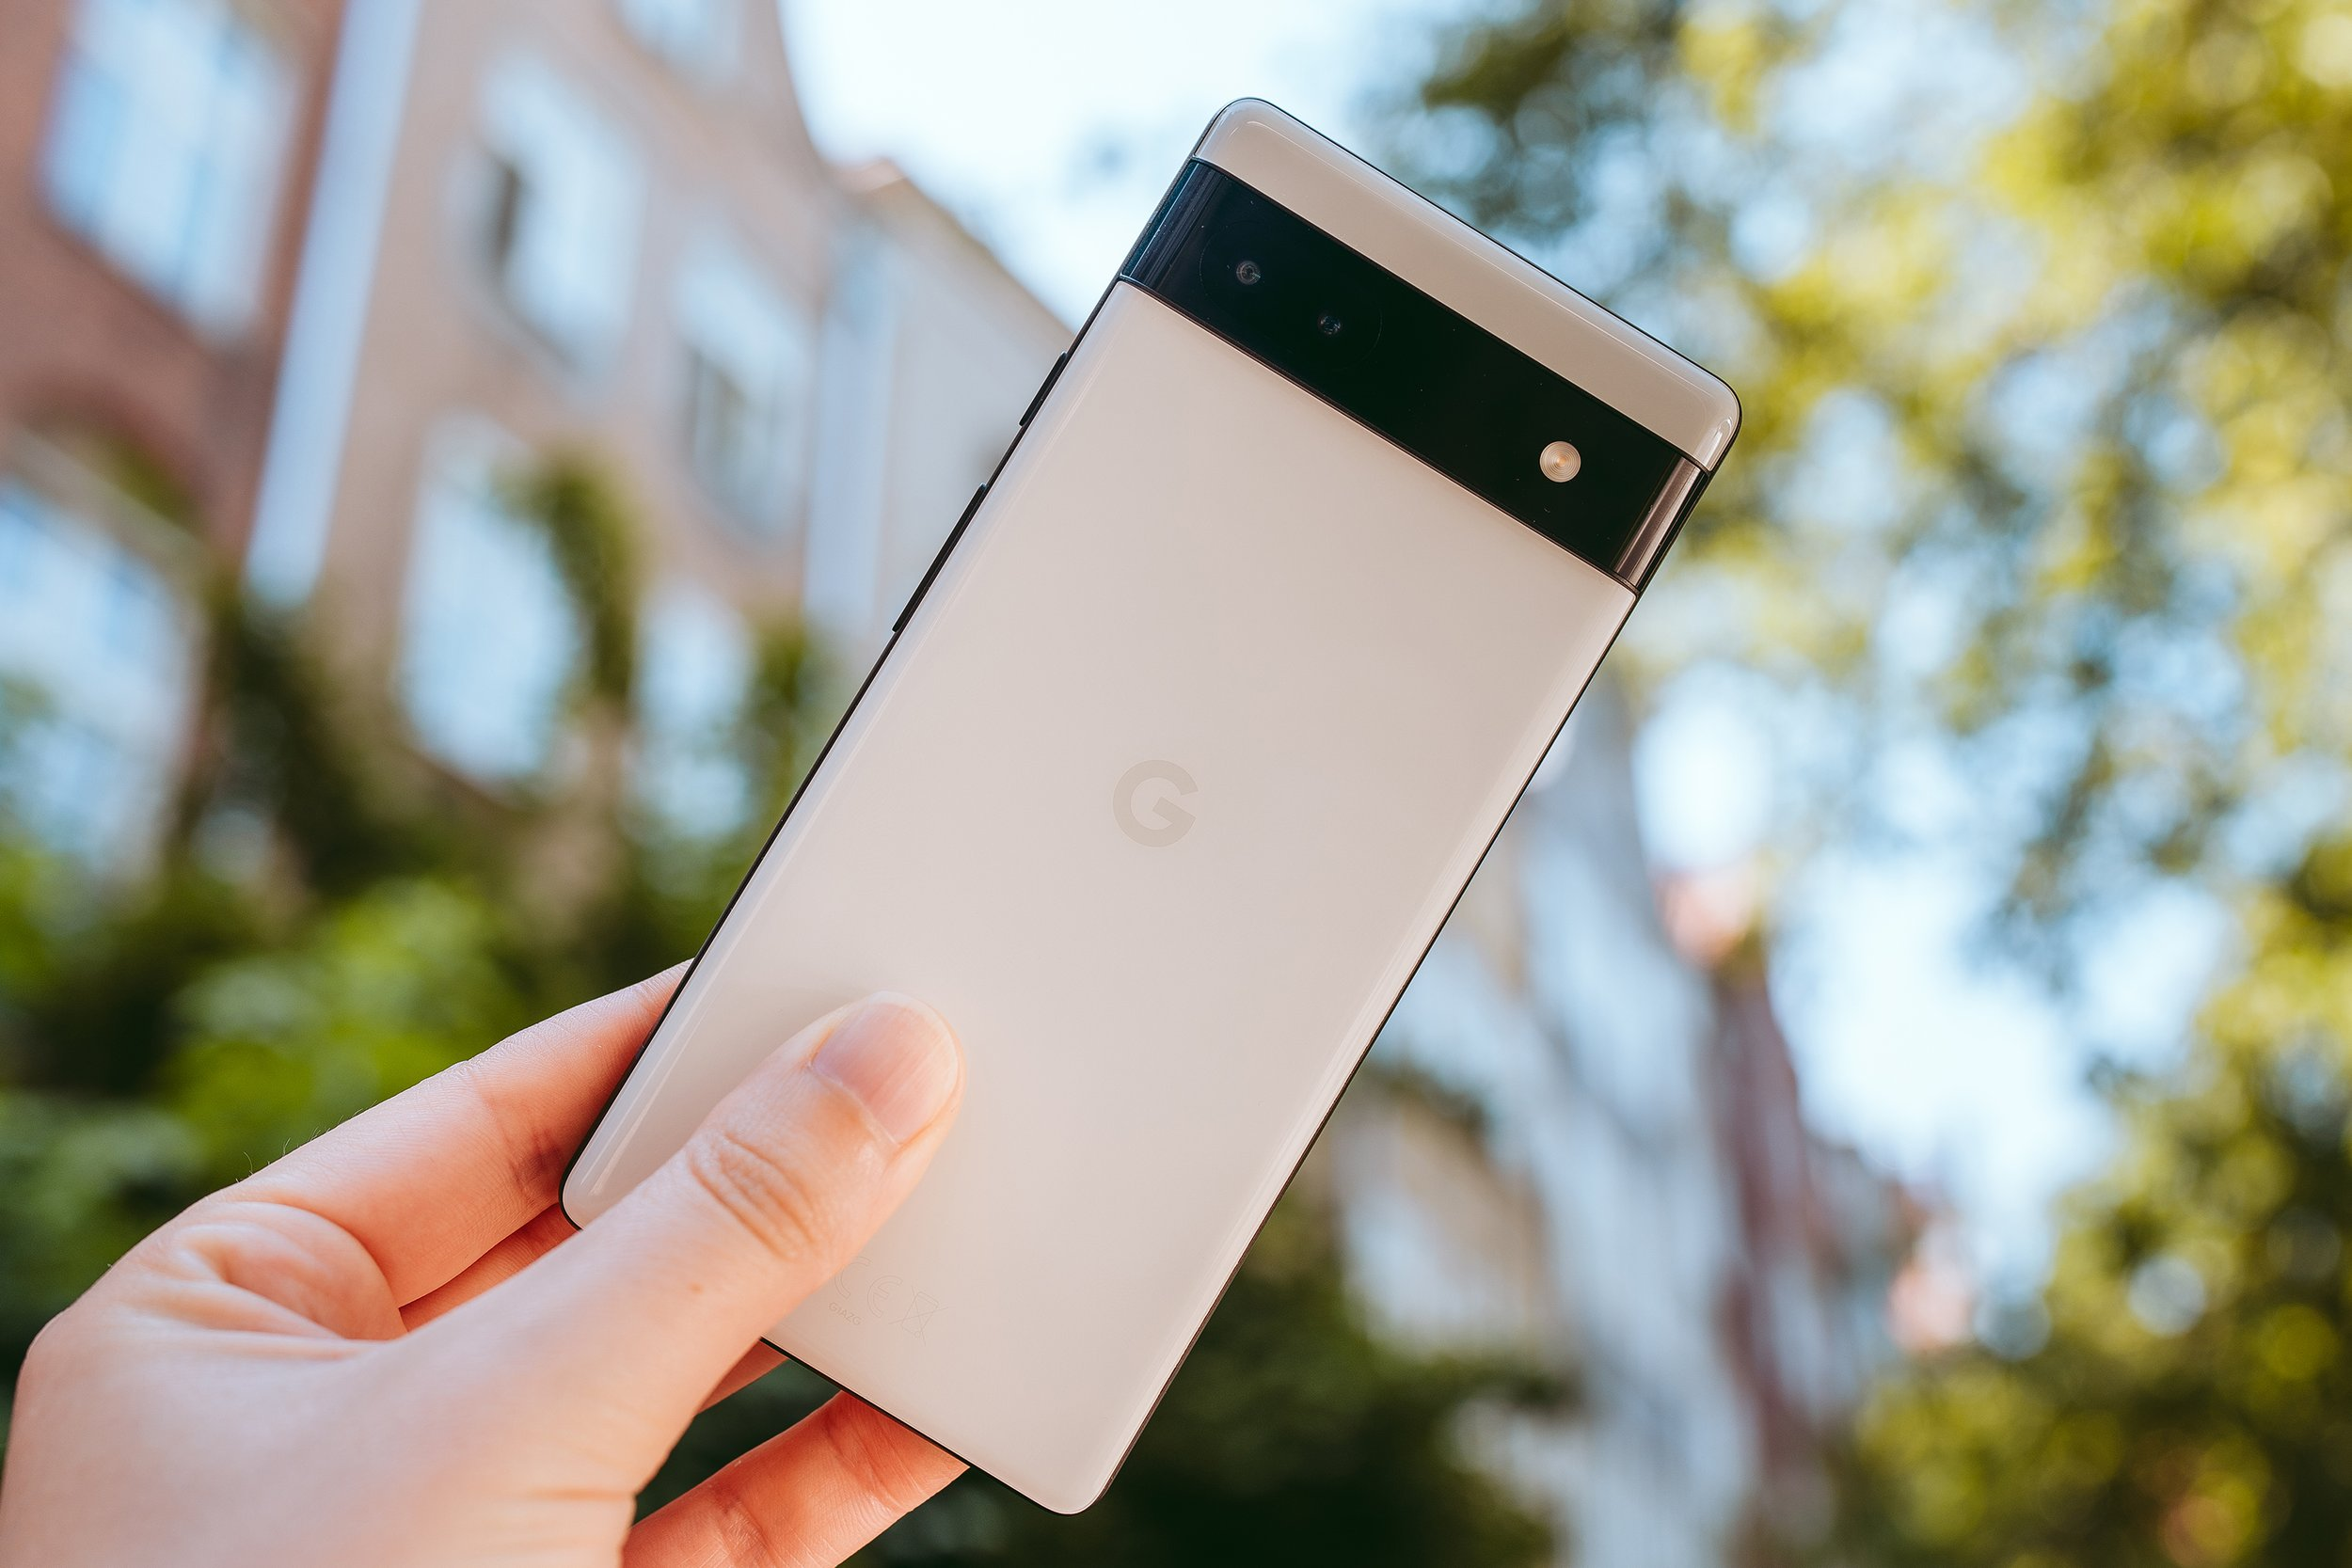phone: (654, 98, 1729, 1507)
